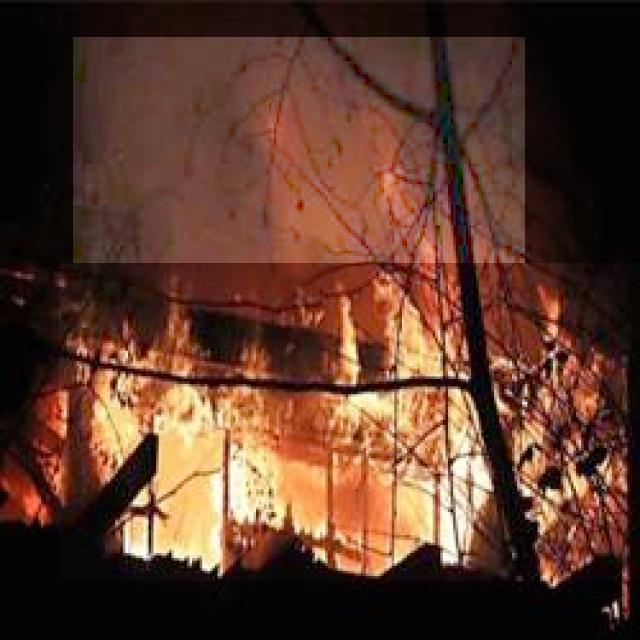Fire: (59, 263, 640, 581)
Smoke: (73, 37, 525, 263)
